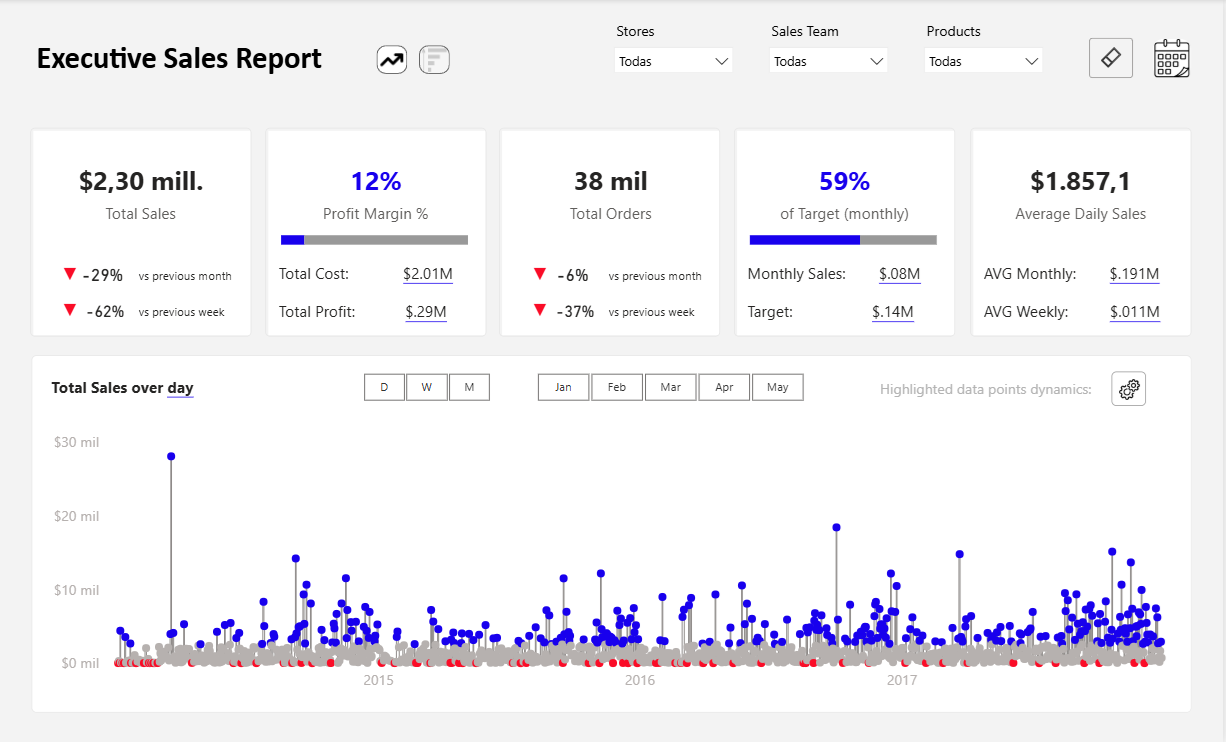

What the dashboard file says about the page in this screenshot:
{"tool":"powerbi","page":{"name":"Page 1","canvas":[1280,780],"ordinal":0},"visuals":[{"type":"slicer","fields":{"Values":["Products_Data.Product Name"]},"box":[955.9,18.5,145.4,79.5],"z":0,"group":"g11"},{"type":"actionButton","box":[438.7,48,32.3,30],"z":0,"group":"g7"},{"type":"card","fields":{"Values":["# Measures.Total Sales"]},"box":[33.2,134.3,231.5,134.3],"z":0,"group":"g8"},{"type":"card","fields":{"Values":["# Measures.Profit Margin %"]},"box":[278.4,134.3,231.5,134.3],"z":0,"group":"g12"},{"type":"card","fields":{"Values":["# Measures.Total Orders"]},"box":[523.7,134.3,231.5,134.3],"z":0,"group":"g9"},{"type":"card","fields":{"Values":["# Measures.Target vs Previous month"]},"box":[768.9,134.3,231.5,134.3],"z":0,"group":"g13"},{"type":"shape","box":[768.7,134.9,231.5,218],"z":0,"group":"g6"},{"type":"card","fields":{"Values":["# Measures.Formatted KPI % MOM"]},"box":[50.1,267.9,49.2,41.2],"z":0,"group":"g1"},{"type":"card","fields":{"Values":["# Measures.Orders KPI % MOM"]},"box":[540.6,267.9,49.2,41.2],"z":0,"group":"g2"},{"type":"card","fields":{"Values":["# Measures.Formatted KPI % MOM"]},"box":[50.1,305.8,49.2,41.2],"z":0,"group":"g3"},{"type":"card","fields":{"Values":["# Measures.Orders KPI % WoW"]},"box":[540.6,305.8,49.2,41.2],"z":0,"group":"g4"},{"type":"slicer","fields":{"Values":["Salesteams.Sales Team"]},"box":[793.3,18.5,145.4,79.5],"z":1000,"group":"g11"},{"type":"actionButton","box":[394,48,32.3,30],"z":1000,"group":"g7"},{"type":"shape","box":[278.2,134.9,231.5,218],"z":1000,"group":"g6"},{"type":"hundredPercentStackedBarChart","fields":{"Y":["# Measures.Total Profit","# Measures.Total Cost"]},"box":[290.7,210.1,205.4,77.4],"z":1000,"group":"g12"},{"type":"hundredPercentStackedBarChart","fields":{"Y":["# Measures.Target vs Previous month","# Measures.Target Diff"]},"box":[781.2,210.1,205.4,77.4],"z":1000,"group":"g13"},{"type":"group","id":"g1","title":"Group 2","box":[50.1,267.9,208.7,41.2],"z":1000,"group":"g8"},{"type":"group","id":"g2","title":"Group 2","box":[540.6,267.9,208.7,41.2],"z":1000,"group":"g9"},{"type":"card","fields":{"Values":["# Measures.TS MOM diff %"]},"box":[79.2,268.6,59.8,39.5],"z":1000,"group":"g1"},{"type":"card","fields":{"Values":["# Measures.Orders MOM diff %"]},"box":[569.7,268.6,59.8,39.5],"z":1000,"group":"g2"},{"type":"card","fields":{"Values":["# Measures.WOW diff %"]},"box":[79.2,306.5,65,39.5],"z":1000,"group":"g3"},{"type":"card","fields":{"Values":["# Measures.Orders WOW diff %"]},"box":[569.7,306.5,65,39.5],"z":1000,"group":"g4"},{"type":"shape","box":[34.2,372.9,1212.8,373.8],"z":1000},{"type":"slicer","fields":{"Values":["storelocations.name"]},"box":[631.8,17.9,145.4,79.5],"z":2000,"group":"g11"},{"type":"shape","box":[523.4,134.9,231.5,218],"z":2000,"group":"g6"},{"type":"textbox","box":[287.6,270.2,211.5,75.8],"z":2000,"group":"g12"},{"type":"textbox","box":[778.1,270.2,211.5,75.8],"z":2000,"group":"g13"},{"type":"textbox","box":[141.8,273.9,117,29.2],"z":2000,"group":"g1"},{"type":"textbox","box":[632.3,273.9,117,29.2],"z":2000,"group":"g2"},{"type":"group","id":"g3","title":"Group 2","box":[50.1,305.8,201.7,41.2],"z":2000,"group":"g8"},{"type":"group","id":"g4","title":"Group 2","box":[540.6,305.8,201.7,41.2],"z":2000,"group":"g9"},{"type":"textbox","box":[141.8,311.8,110,29.2],"z":2000,"group":"g3"},{"type":"textbox","box":[632.3,311.8,110,29.2],"z":2000,"group":"g4"},{"type":"slicer","fields":{"Values":["Date M-W-D.Date M-W-D"]},"box":[355.3,389,181.8,32],"z":2000,"group":"g10"},{"type":"lineChart","fields":{"Category":["Date Table.Date","Date Table.WeeknYear","Date Table.Month Short"],"Y":["# Measures.Total Sales"]},"box":[36.2,432.5,1210,315],"z":2000},{"type":"group","id":"g5","title":"Group 3","box":[33.7,17.9,1212.1,80],"z":3000},{"type":"textbox","box":[33.7,36.3,335.6,61.3],"z":3000,"group":"g5"},{"type":"shape","box":[32.9,134.9,231.5,218],"z":3000,"group":"g6"},{"type":"textbox","box":[50,389.5,242.1,49.5],"z":3000,"group":"g10"},{"type":"actionButton","box":[1206,40.9,39.8,39.8],"z":4000,"group":"g5"},{"type":"group","id":"g6","title":"Group 10","box":[32.9,134.3,1214.3,218.6],"z":4000},{"type":"shape","box":[1015.5,134.9,231.5,218],"z":4000,"group":"g6"},{"type":"slicer","fields":{"Values":["Date Table.Month Short"]},"box":[537.8,389.5,328.1,32],"z":4000,"group":"g10"},{"type":"group","id":"g7","title":"Group 9","box":[394,48,77,30],"z":5000,"group":"g5"},{"type":"group","id":"g8","title":"Group 7","box":[33.2,134.3,231.5,212.7],"z":5000,"group":"g6"},{"type":"textbox","box":[917,391.3,247,41.8],"z":5000,"group":"g10"},{"type":"group","id":"g9","title":"Group 7","box":[523.7,134.3,231.5,212.7],"z":6000,"group":"g6"},{"type":"group","id":"g10","title":"Group 11","box":[50,389,1149.8,50],"z":6000},{"type":"image","box":[1163.8,389.3,36,36],"z":6000,"group":"g10"},{"type":"card","fields":{"Values":["# Measures.Average Daily Saeles"]},"box":[1015.7,134.3,231.5,134.3],"z":7000,"group":"g6"},{"type":"group","id":"g11","title":"Group 6","box":[631.8,17.9,470,80],"z":7002,"group":"g5"},{"type":"actionButton","box":[1140,41.1,46,42.2],"z":8000},{"type":"group","id":"g12","title":"Group 8","box":[278.4,134.3,231.5,211.7],"z":8000,"group":"g6"},{"type":"htmlContent443BE3AD55E043BF878BED274D3A6855","fields":{"content":["# Measures.Toast Notification"]},"box":[938.5,706.4,342.3,60.3],"z":8500},{"type":"group","id":"g13","title":"Group 8","box":[768.9,134.3,231.5,211.7],"z":9000,"group":"g6"},{"type":"textbox","box":[1024.9,269.6,212.1,80.4],"z":10000,"group":"g6"}]}

Visuals, with their boxes in screenshot pixels (x1, y1, x2, y2), scaled from the page's 1280x780 canvas onto the 1226x742 screenshot:
slicer - Products_Data.Product Name: 916 18 1055 93
actionButton: 420 46 451 74
card - # Measures.Total Sales: 32 128 254 256
card - # Measures.Profit Margin %: 267 128 488 256
card - # Measures.Total Orders: 502 128 723 256
card - # Measures.Target vs Previous month: 736 128 958 256
shape: 736 128 958 336
card - # Measures.Formatted KPI % MOM: 48 255 95 294
card - # Measures.Orders KPI % MOM: 518 255 565 294
card - # Measures.Formatted KPI % MOM: 48 291 95 330
card - # Measures.Orders KPI % WoW: 518 291 565 330
slicer - Salesteams.Sales Team: 760 18 899 93
actionButton: 377 46 408 74
shape: 266 128 488 336
hundredPercentStackedBarChart - # Measures.Total Profit x # Measures.Total Cost: 278 200 475 273
hundredPercentStackedBarChart - # Measures.Target vs Previous month x # Measures.Target Diff: 748 200 945 273
"Group 2" group: 48 255 248 294
"Group 2" group: 518 255 718 294
card - # Measures.TS MOM diff %: 76 256 133 293
card - # Measures.Orders MOM diff %: 546 256 603 293
card - # Measures.WOW diff %: 76 292 138 329
card - # Measures.Orders WOW diff %: 546 292 608 329
shape: 33 355 1194 710
slicer - storelocations.name: 605 17 744 93
shape: 501 128 723 336
textbox: 275 257 478 329
textbox: 745 257 948 329
textbox: 136 261 248 288
textbox: 606 261 718 288
"Group 2" group: 48 291 241 330
"Group 2" group: 518 291 711 330
textbox: 136 297 241 324
textbox: 606 297 711 324
slicer - Date M-W-D.Date M-W-D: 340 370 514 400
lineChart - Date Table.Date x Date Table.WeeknYear: 35 411 1194 711
"Group 3" group: 32 17 1193 93
textbox: 32 35 354 93
shape: 32 128 253 336
textbox: 48 371 280 418
actionButton: 1155 39 1193 77
"Group 10" group: 32 128 1195 336
shape: 973 128 1194 336
slicer - Date Table.Month Short: 515 371 829 401
"Group 9" group: 377 46 451 74
"Group 7" group: 32 128 254 330
textbox: 878 372 1115 412
"Group 7" group: 502 128 723 330
"Group 11" group: 48 370 1149 418
image: 1115 370 1149 405
card - # Measures.Average Daily Saeles: 973 128 1195 256
"Group 6" group: 605 17 1055 93
actionButton: 1092 39 1136 79
"Group 8" group: 267 128 488 329
htmlContent443BE3AD55E043BF878BED274D3A6855 - # Measures.Toast Notification: 899 672 1225 729
"Group 8" group: 736 128 958 329
textbox: 982 256 1185 333
